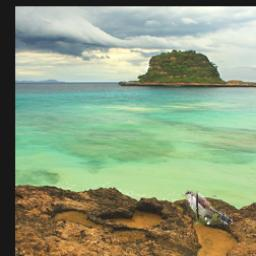Cuckoo: (182, 191, 234, 226)
